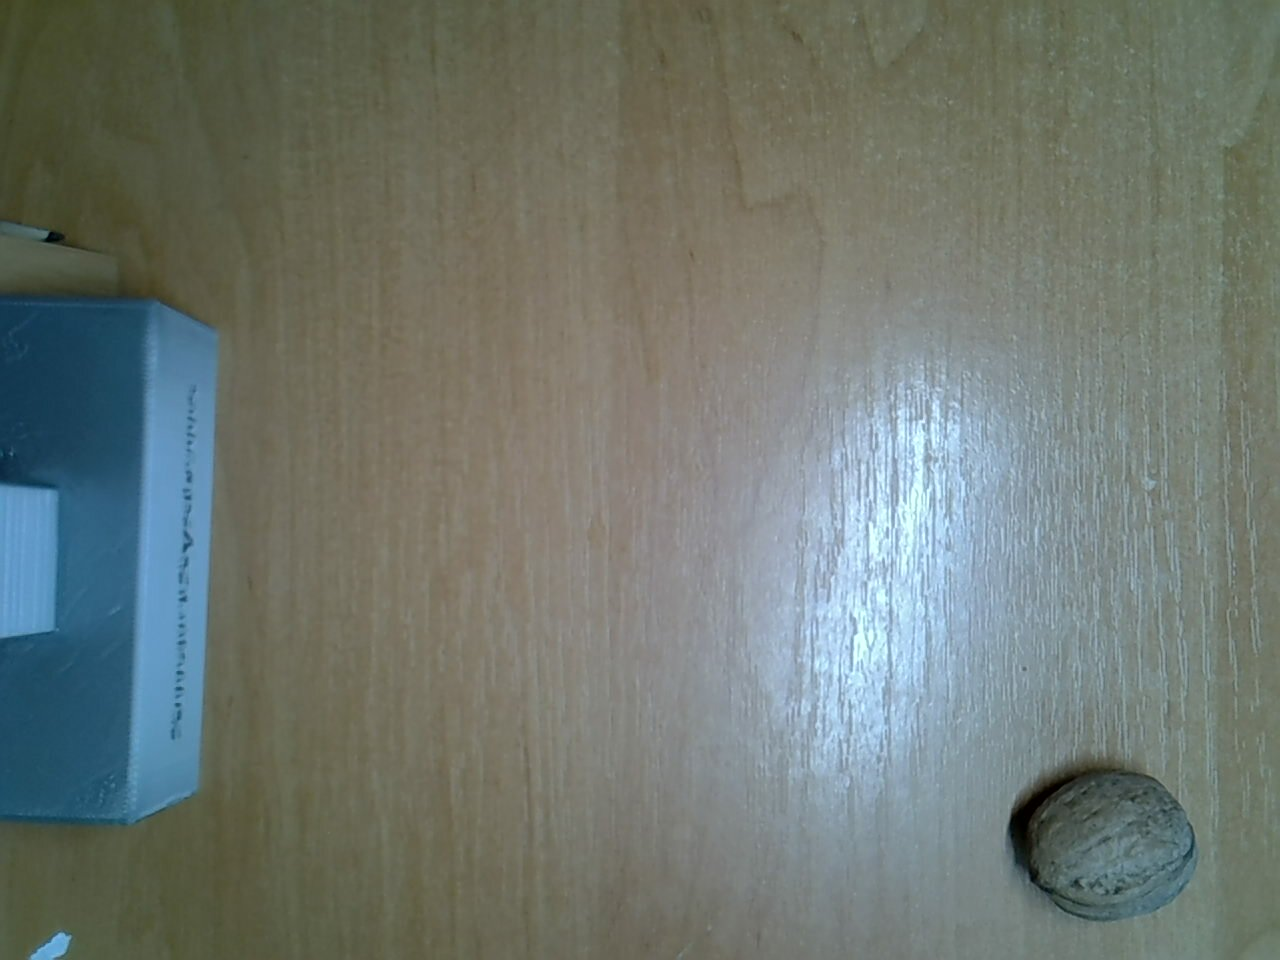nut: (1022, 762, 1203, 927)
